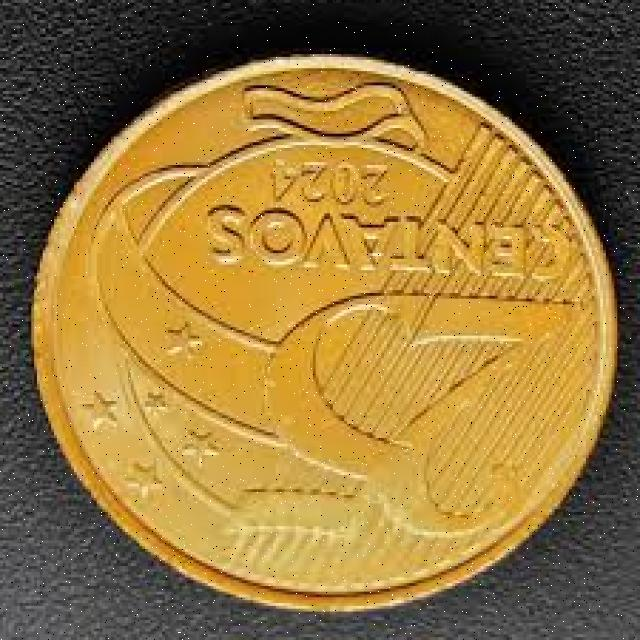25 cent: (33, 54, 618, 616)
